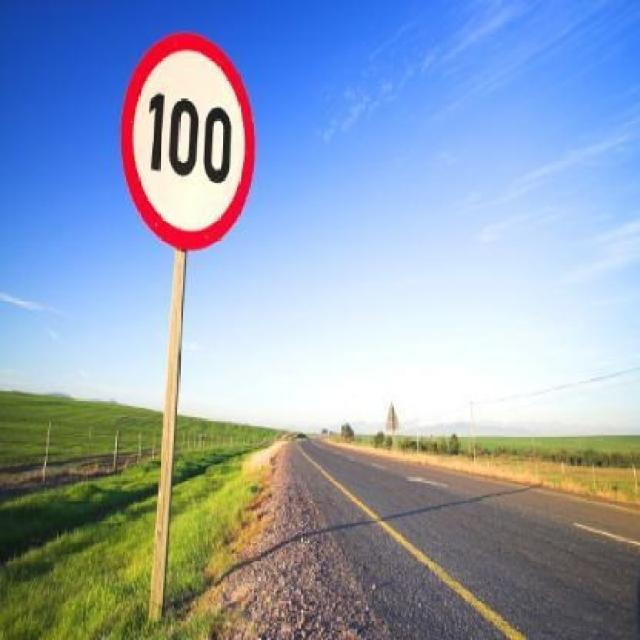forb_speed_over_100: (126, 33, 255, 250)
